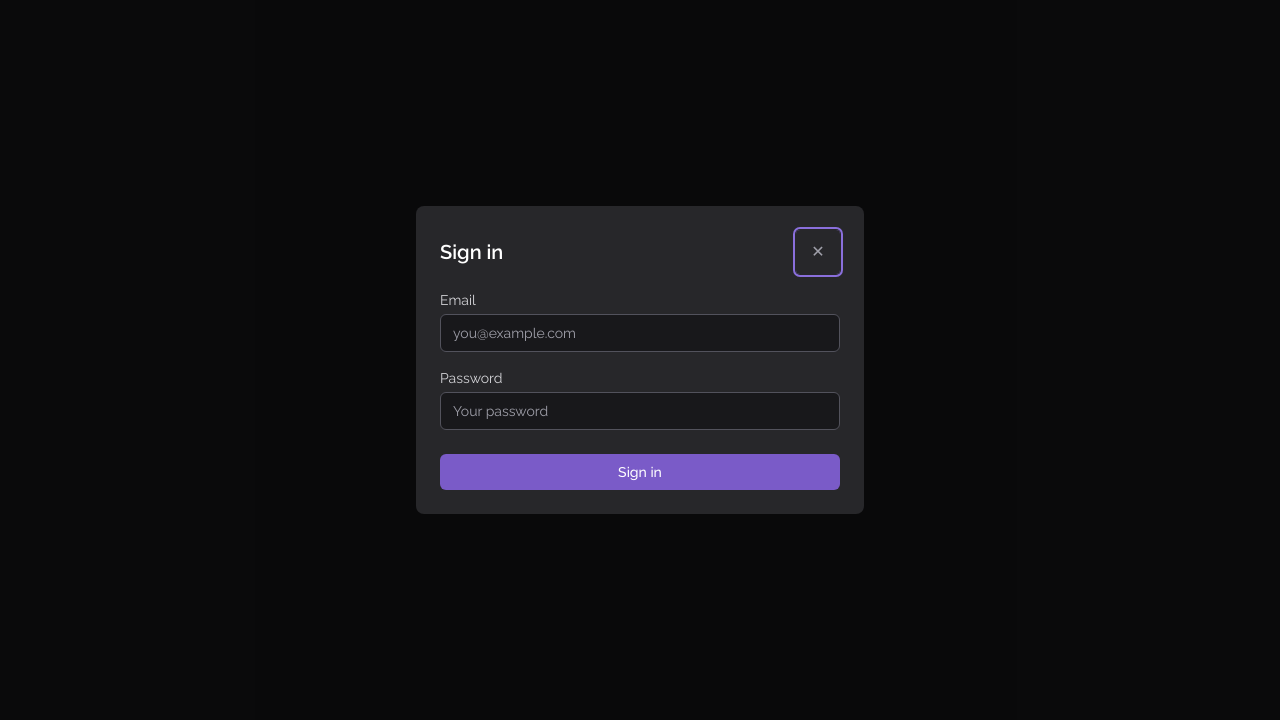
it: SignInModal › shows a validation error when the user submits with empty fields
Click the button "Sign in": (640, 472) [440,454,840,490]
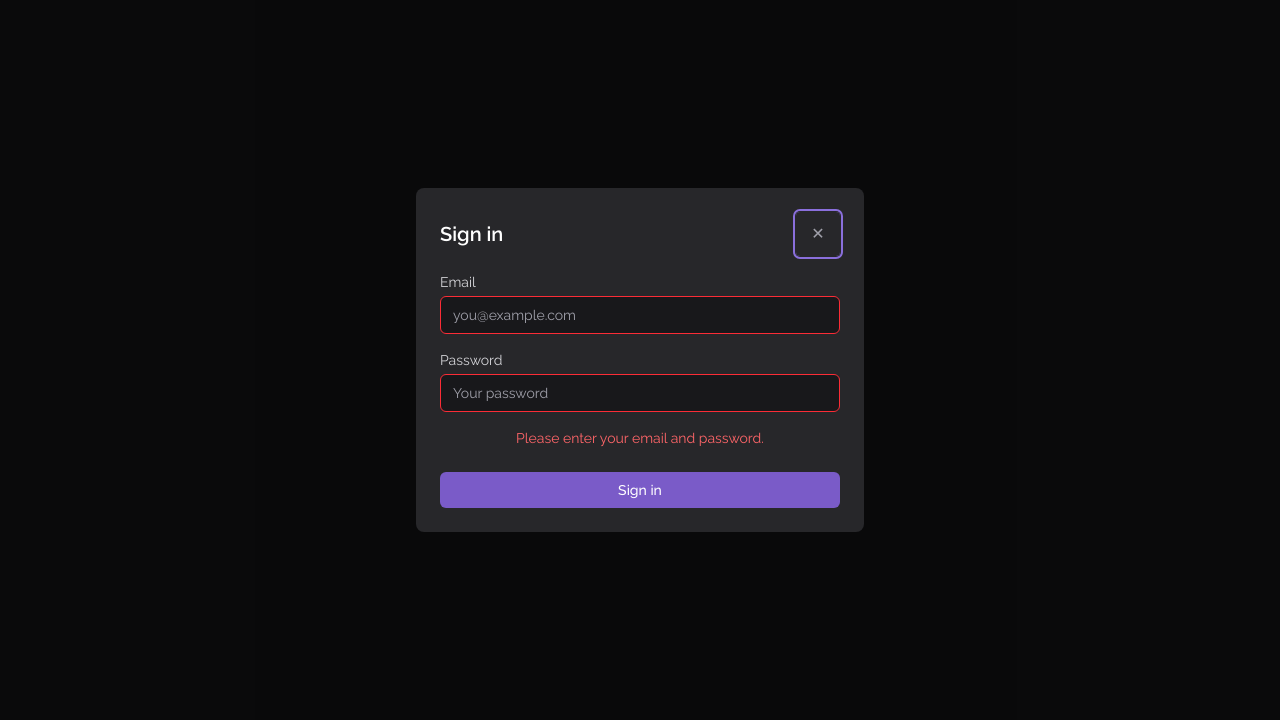
Result: the text "Please enter your email and password." is shown at [516,430,764,446]
